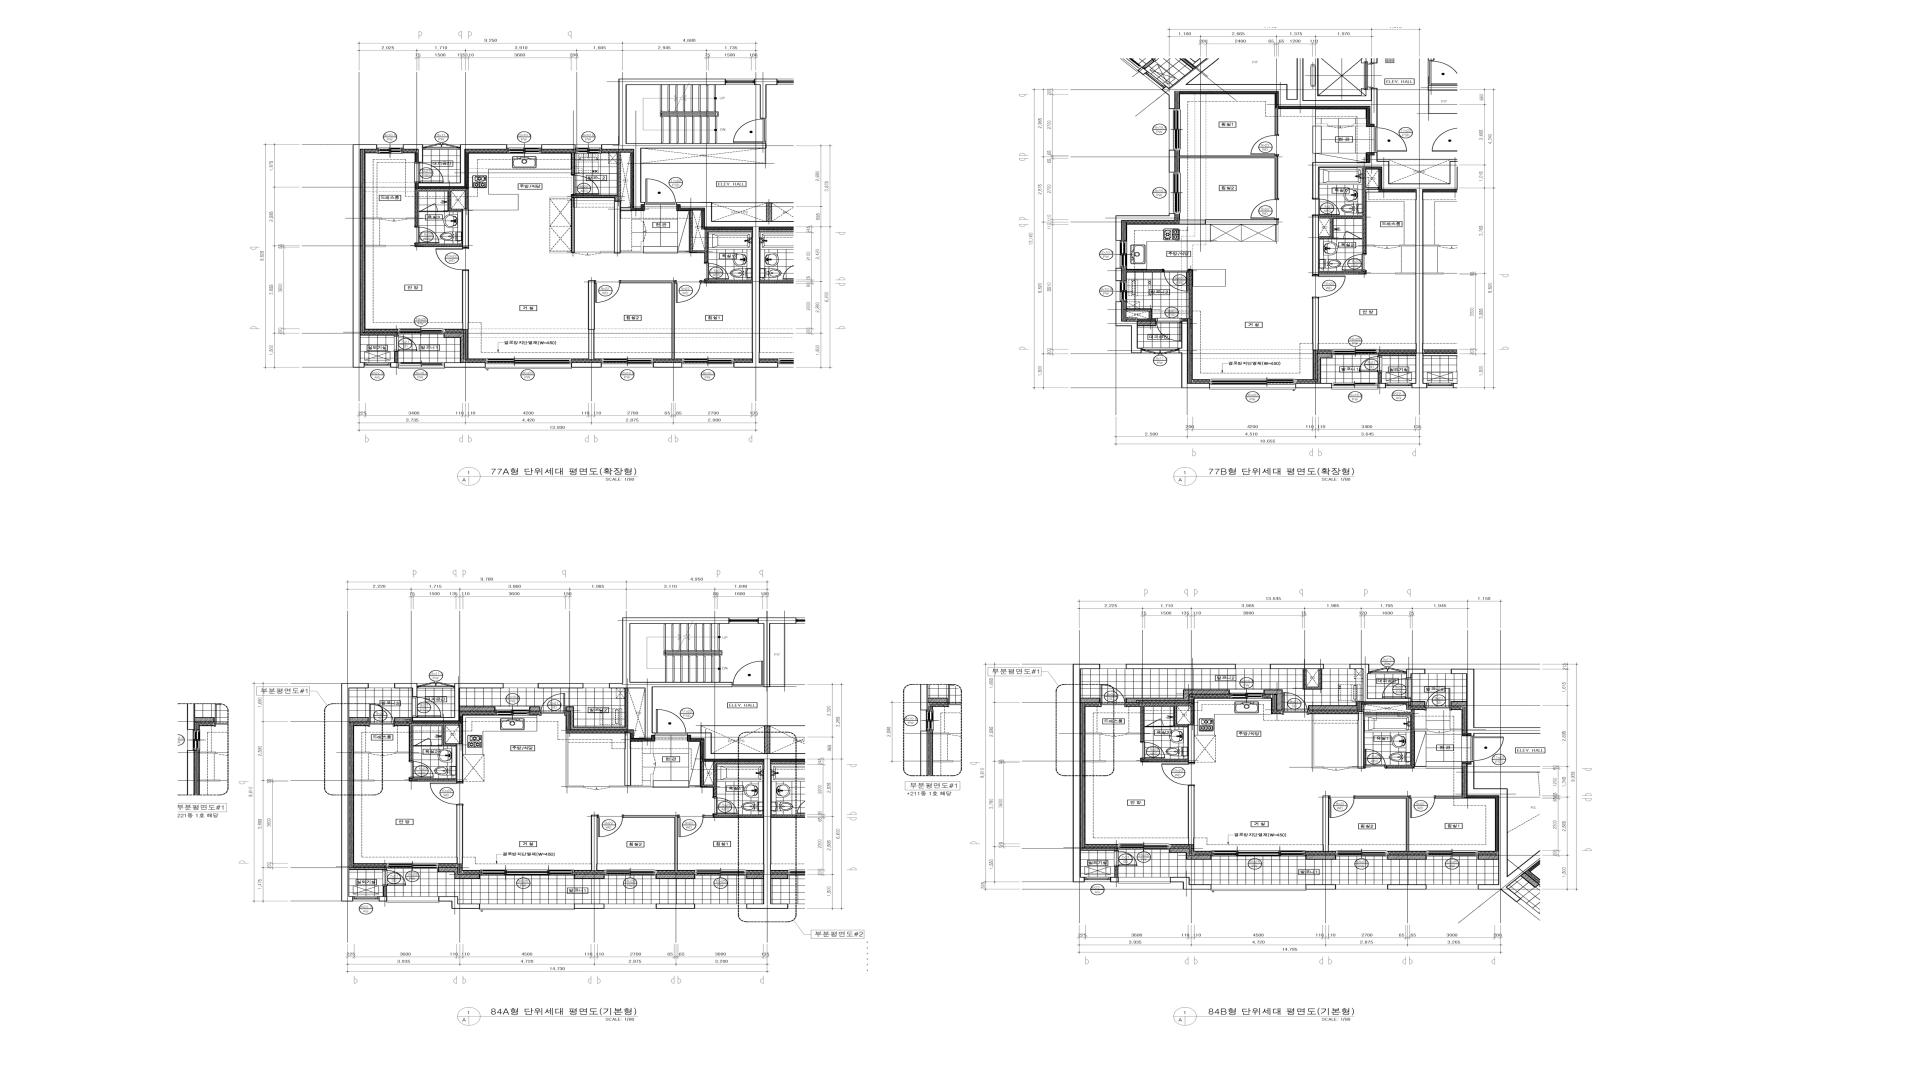door: (655, 708, 687, 736), (732, 661, 764, 687), (645, 178, 676, 204), (1470, 736, 1503, 761), (1374, 127, 1407, 152), (733, 119, 766, 144), (1312, 274, 1346, 298), (435, 247, 469, 270), (1162, 762, 1195, 786), (430, 782, 463, 804), (1379, 678, 1412, 698), (411, 696, 442, 717), (675, 280, 702, 303), (595, 280, 621, 303), (1250, 135, 1279, 156), (571, 174, 600, 195), (1156, 318, 1182, 342), (541, 692, 566, 716), (369, 703, 394, 727), (1163, 269, 1189, 291), (1410, 795, 1436, 818), (678, 815, 704, 837), (597, 815, 624, 837), (1100, 684, 1126, 707), (1250, 199, 1279, 219), (414, 162, 443, 182), (1329, 795, 1354, 818), (1425, 688, 1451, 711), (1283, 692, 1308, 715), (1312, 198, 1340, 215), (414, 225, 439, 244), (712, 796, 737, 814), (409, 761, 434, 778), (1141, 741, 1166, 758), (1342, 253, 1367, 270), (704, 262, 729, 280), (1365, 749, 1386, 769), (1358, 356, 1382, 372), (382, 870, 406, 886), (1114, 851, 1138, 866), (394, 335, 417, 351), (1369, 667, 1407, 674), (417, 682, 455, 688), (1142, 348, 1179, 355), (423, 142, 460, 149), (415, 737, 433, 746), (421, 203, 438, 212), (1146, 719, 1163, 727), (1344, 231, 1361, 239), (1374, 245, 1400, 249), (369, 752, 396, 756), (575, 252, 601, 256), (584, 786, 609, 790), (381, 218, 406, 222), (1428, 729, 1451, 733), (1101, 733, 1127, 736), (1324, 767, 1349, 770), (1328, 125, 1353, 128), (644, 222, 646, 241)
wall: (1312, 152, 1458, 388), (601, 78, 766, 208), (687, 732, 806, 909), (676, 202, 794, 368), (609, 617, 732, 738), (1162, 58, 1378, 127), (1466, 761, 1540, 902), (550, 152, 620, 253), (1452, 669, 1540, 736), (342, 683, 368, 902), (1073, 663, 1100, 882), (352, 144, 377, 368), (1319, 167, 1379, 253), (1179, 156, 1278, 199), (621, 281, 675, 360), (418, 144, 508, 186), (411, 683, 504, 721), (1361, 704, 1415, 769), (690, 210, 752, 262), (1354, 795, 1410, 852), (704, 765, 764, 818), (624, 815, 678, 870), (758, 617, 796, 687), (396, 723, 463, 761), (566, 688, 628, 729), (406, 189, 469, 227), (609, 732, 653, 787), (1350, 663, 1412, 702), (700, 761, 764, 796), (1179, 320, 1211, 388), (1141, 703, 1195, 741), (641, 148, 766, 164), (409, 746, 456, 782), (1141, 727, 1188, 762), (601, 200, 632, 253), (1116, 214, 1175, 240), (1116, 302, 1142, 353), (1126, 690, 1229, 703), (566, 733, 584, 787), (754, 79, 778, 119), (770, 624, 785, 687), (1349, 712, 1365, 769), (700, 725, 806, 732), (1312, 713, 1324, 769), (443, 332, 464, 363), (1126, 663, 1236, 669), (588, 280, 595, 360), (1179, 219, 1279, 224), (1170, 848, 1212, 860), (439, 897, 480, 909), (1171, 877, 1212, 889), (462, 270, 469, 330), (1317, 353, 1333, 382), (438, 868, 480, 878), (1303, 669, 1323, 690), (1263, 690, 1283, 711), (1312, 215, 1319, 274), (456, 804, 463, 864), (1188, 786, 1195, 845), (1323, 795, 1329, 852), (591, 815, 597, 870), (404, 144, 423, 162), (1312, 298, 1319, 351), (462, 208, 469, 247), (394, 683, 417, 696), (1270, 663, 1324, 669), (1126, 309, 1153, 319), (621, 241, 644, 253), (1308, 705, 1357, 711), (456, 744, 463, 782), (1188, 724, 1195, 762), (1313, 108, 1328, 125), (538, 683, 583, 688), (444, 363, 485, 368), (655, 903, 695, 909), (1387, 855, 1427, 860), (1387, 884, 1427, 889), (1189, 269, 1193, 319), (702, 280, 752, 284), (414, 243, 463, 247), (1319, 270, 1366, 274), (1296, 382, 1332, 388), (460, 705, 496, 711), (542, 144, 575, 149), (1407, 669, 1425, 678), (574, 874, 605, 880), (1305, 855, 1336, 860), (571, 363, 601, 368), (1168, 149, 1175, 173), (655, 874, 695, 878), (575, 903, 604, 909), (653, 363, 682, 368), (349, 866, 386, 870), (1126, 269, 1163, 273), (765, 727, 770, 753), (766, 203, 773, 222), (1305, 885, 1336, 889), (712, 202, 794, 203), (1378, 158, 1457, 160), (349, 717, 369, 723), (1478, 855, 1498, 860), (1378, 353, 1416, 356), (360, 332, 398, 335), (1081, 848, 1118, 851), (1081, 698, 1100, 703), (1138, 320, 1156, 326), (746, 874, 764, 880), (571, 152, 575, 174), (1116, 268, 1122, 281), (1451, 700, 1466, 705), (394, 717, 413, 721), (1436, 795, 1462, 798), (1275, 108, 1278, 135), (529, 705, 541, 711), (1411, 702, 1425, 705), (353, 779, 375, 782), (1085, 760, 1106, 762), (394, 351, 398, 363), (1378, 382, 1386, 388), (1378, 372, 1382, 382), (1400, 244, 1416, 247), (382, 886, 386, 897), (378, 897, 386, 902), (1085, 732, 1101, 735), (1114, 866, 1118, 877), (1110, 877, 1118, 882), (390, 363, 398, 368), (1127, 732, 1141, 735), (1415, 728, 1428, 731), (650, 741, 653, 753), (1451, 728, 1462, 731), (1395, 273, 1416, 274), (641, 211, 644, 222), (365, 245, 385, 247), (353, 752, 369, 753), (365, 218, 381, 219), (1353, 124, 1366, 125)
window: (480, 903, 575, 910), (480, 869, 574, 876), (1211, 378, 1296, 385), (1212, 885, 1305, 890), (1212, 851, 1305, 856), (485, 364, 572, 369), (485, 359, 571, 364), (601, 359, 653, 367), (682, 359, 733, 367), (1118, 877, 1171, 884), (1209, 385, 1296, 389), (604, 869, 655, 876), (695, 869, 746, 876), (386, 862, 438, 869), (1229, 690, 1263, 699), (508, 144, 542, 153), (496, 705, 529, 715), (604, 903, 657, 909), (386, 897, 439, 902), (1174, 108, 1180, 150), (1427, 851, 1478, 856), (695, 903, 746, 909), (1336, 851, 1387, 856), (1118, 844, 1170, 849), (1174, 173, 1180, 214), (377, 144, 404, 153), (575, 144, 601, 153), (1333, 349, 1378, 355), (398, 328, 443, 334), (1120, 240, 1127, 268), (1427, 885, 1478, 889), (1336, 885, 1387, 889), (729, 617, 758, 624), (1332, 382, 1378, 386), (398, 365, 444, 369), (504, 683, 538, 688), (1236, 663, 1270, 669), (1120, 281, 1127, 302), (1170, 173, 1174, 214), (1170, 109, 1174, 150), (725, 79, 754, 84), (1386, 382, 1412, 388), (583, 683, 609, 688), (352, 895, 378, 901), (368, 683, 394, 688), (1084, 877, 1110, 882), (1425, 669, 1452, 674), (1324, 663, 1350, 669), (1100, 663, 1126, 669), (364, 363, 390, 368), (1332, 386, 1378, 389), (398, 363, 444, 365), (1116, 240, 1120, 268), (1116, 281, 1120, 302)
